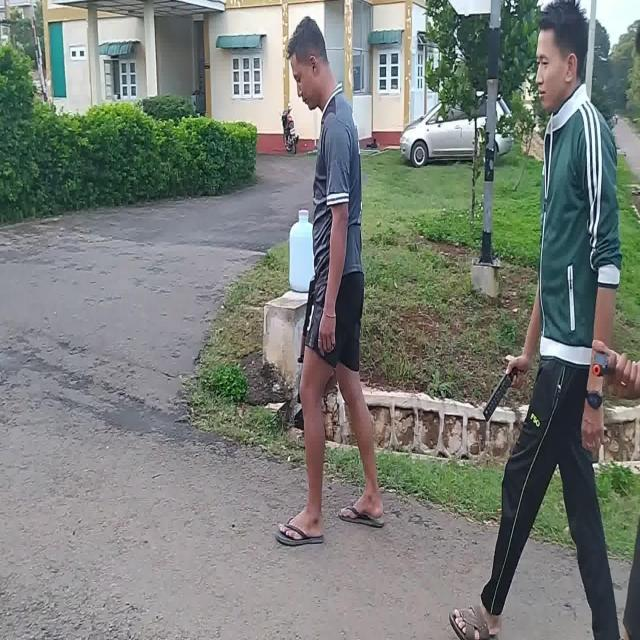gun: (298, 278, 317, 402), (593, 351, 611, 377)
